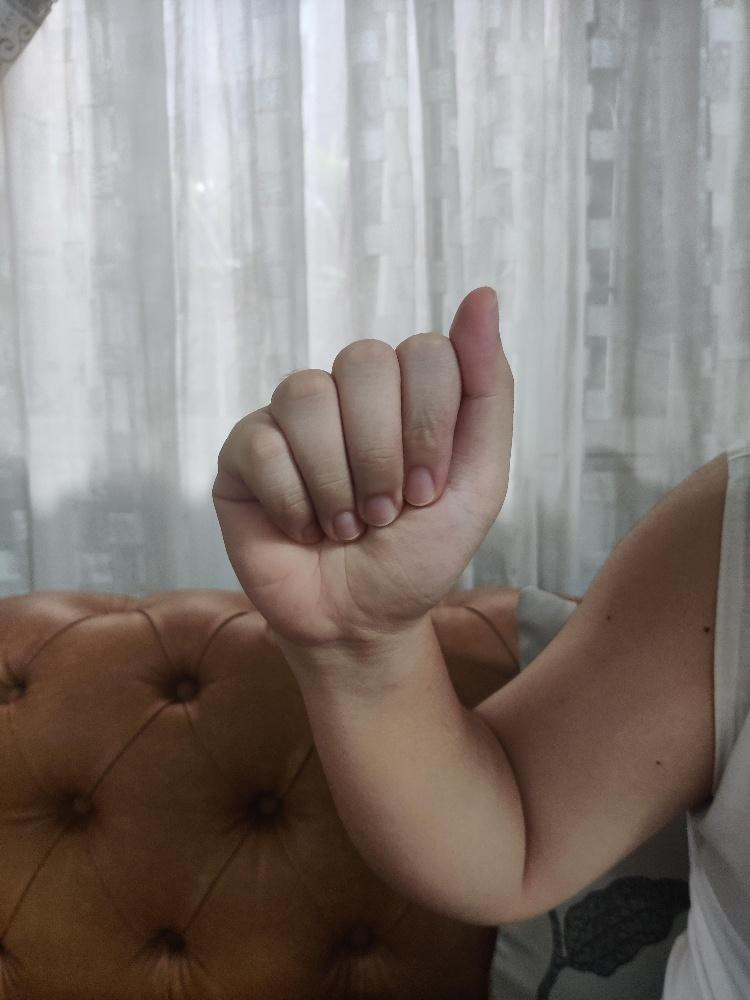a: (211, 284, 516, 645)
